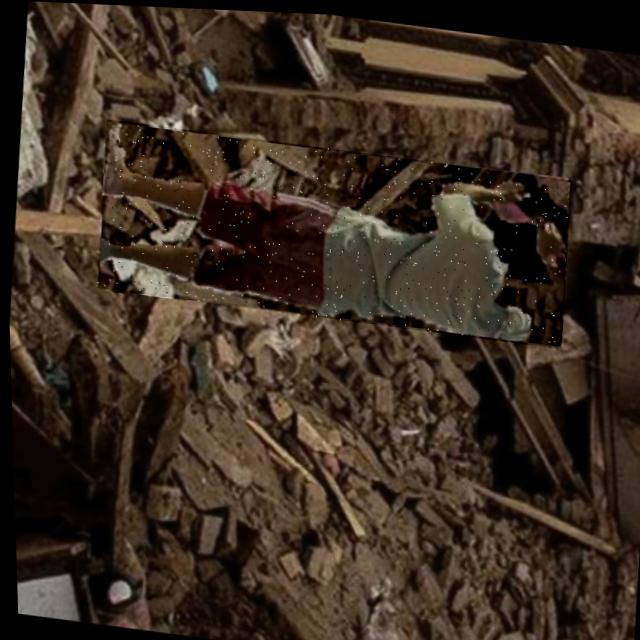Person in Rubble: (90, 117, 573, 344)
